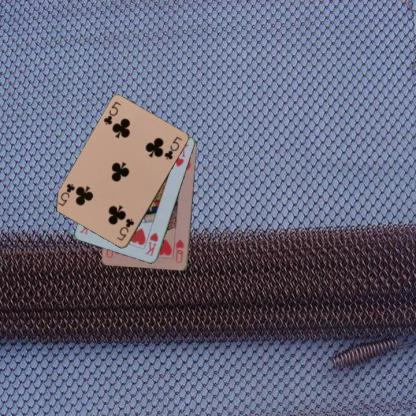5c: (101, 99, 123, 126), (114, 216, 135, 242)
Kh: (142, 230, 160, 258)
Qh: (173, 237, 185, 265)
